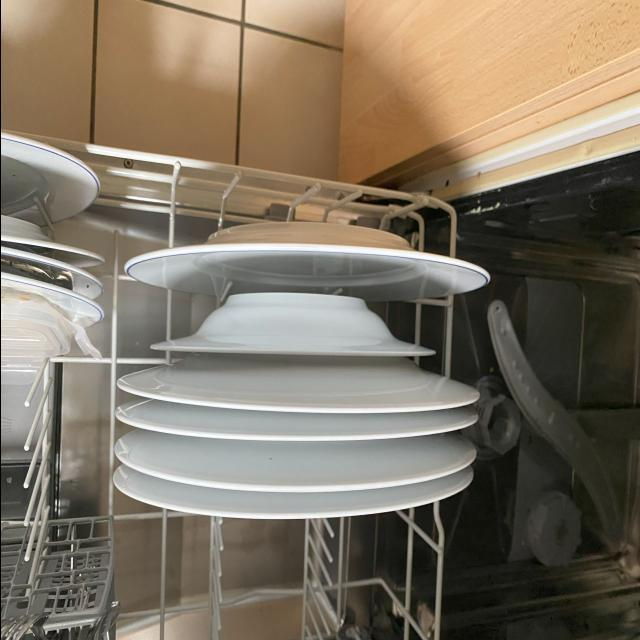empty_slot: (166, 520, 422, 640)
